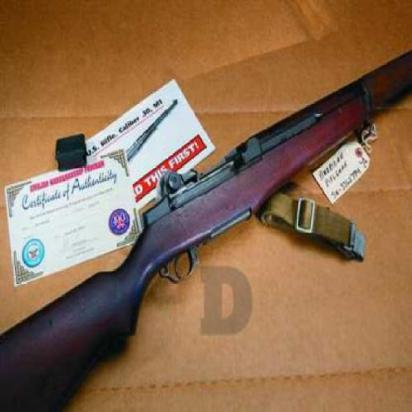Gun: (0, 35, 411, 411)
